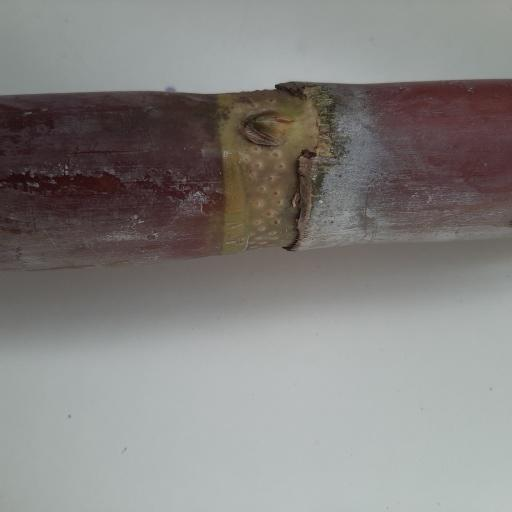Bud: (239, 107, 294, 146)
